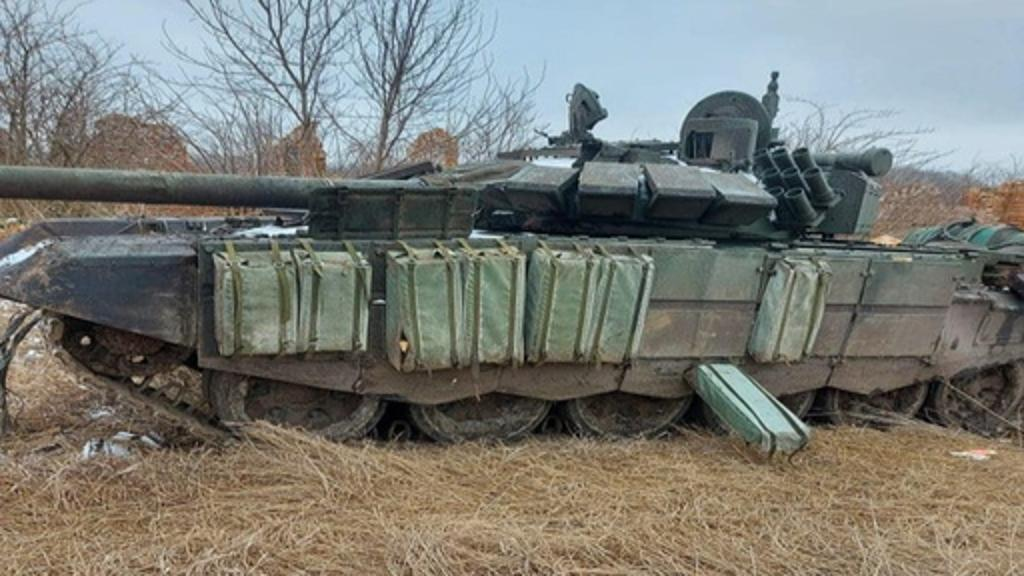TANK: (0, 86, 1020, 446)
